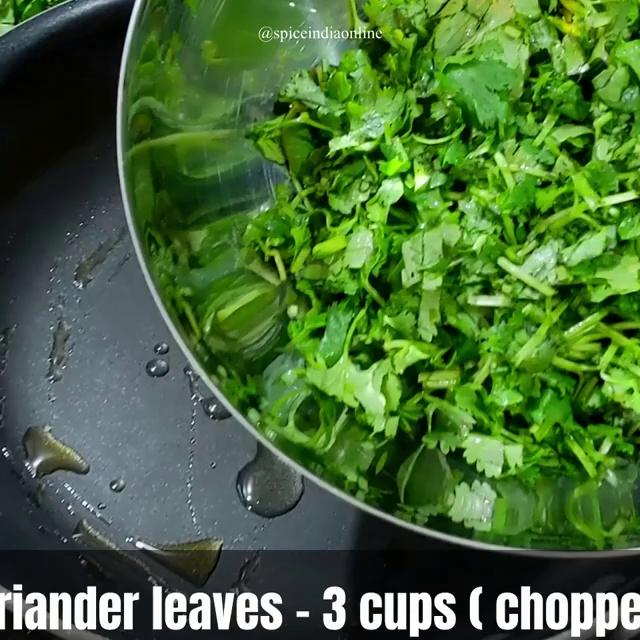cilantro: (305, 0, 640, 401)
